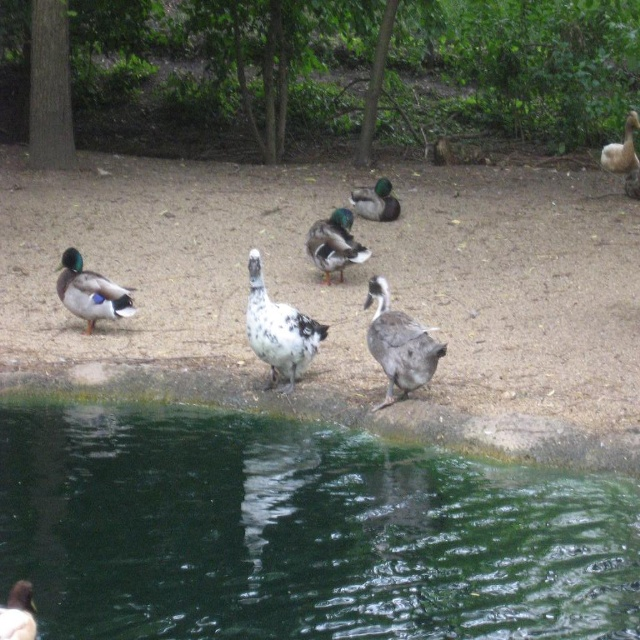Goose: (230, 224, 330, 401), (362, 269, 450, 411), (51, 247, 131, 338), (306, 208, 372, 286), (348, 174, 401, 222), (0, 580, 40, 639)
